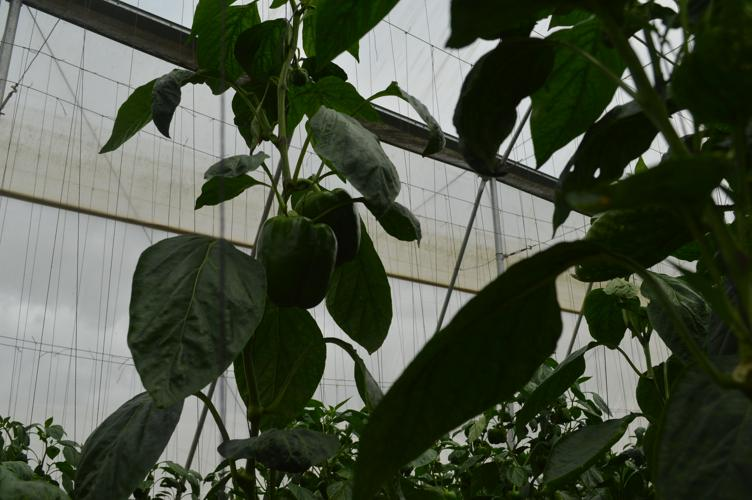BellPepper: (243, 215, 347, 310), (291, 190, 368, 264)
